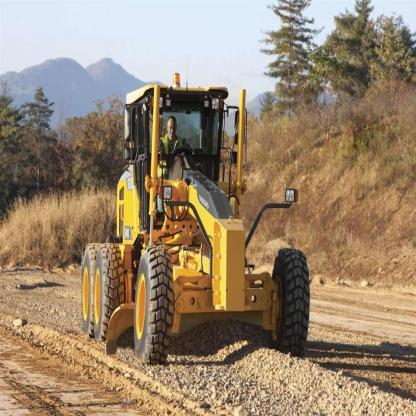bull_dozer/loader/grader: (72, 67, 337, 378)
